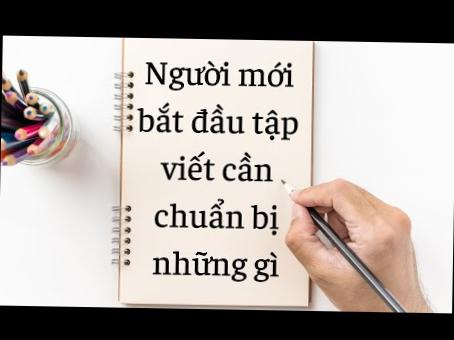text: (136, 99, 300, 142), (142, 57, 296, 94), (152, 195, 280, 237), (151, 249, 281, 284), (158, 148, 274, 183)
